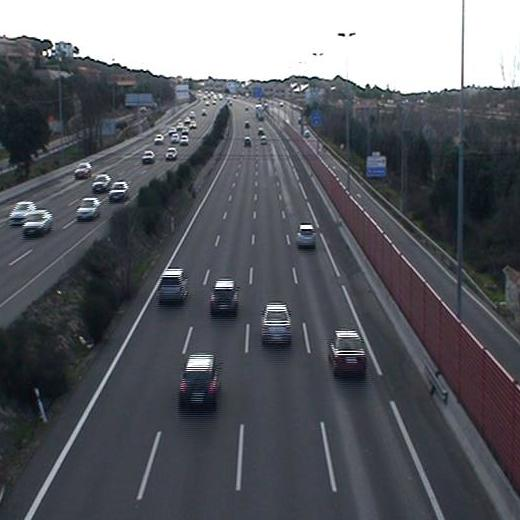car: (180, 354, 219, 408), (329, 329, 367, 371), (262, 303, 290, 343), (209, 280, 239, 313), (158, 270, 188, 301), (297, 223, 316, 247)
